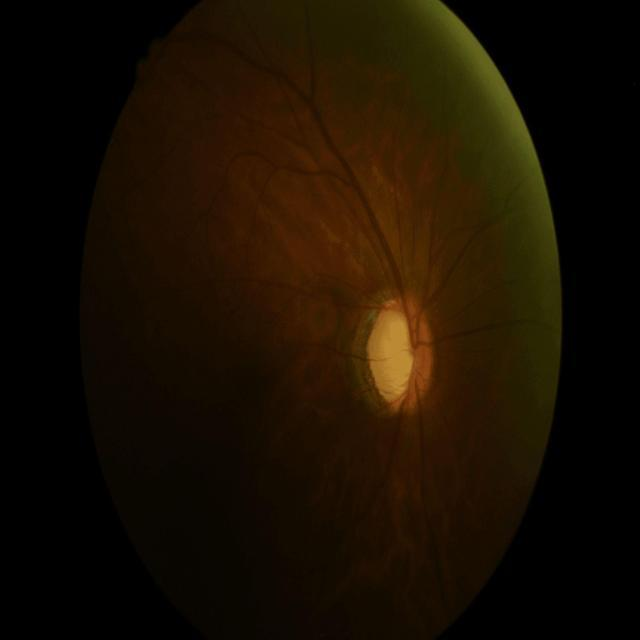cup: (377, 311, 425, 398)
disk: (366, 297, 437, 413)
